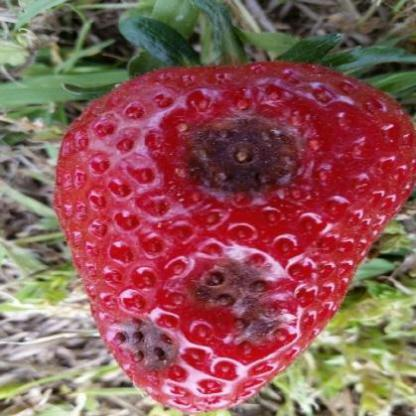Strawberry_Anthracnose_Fruit_Rot: (101, 106, 317, 382)
